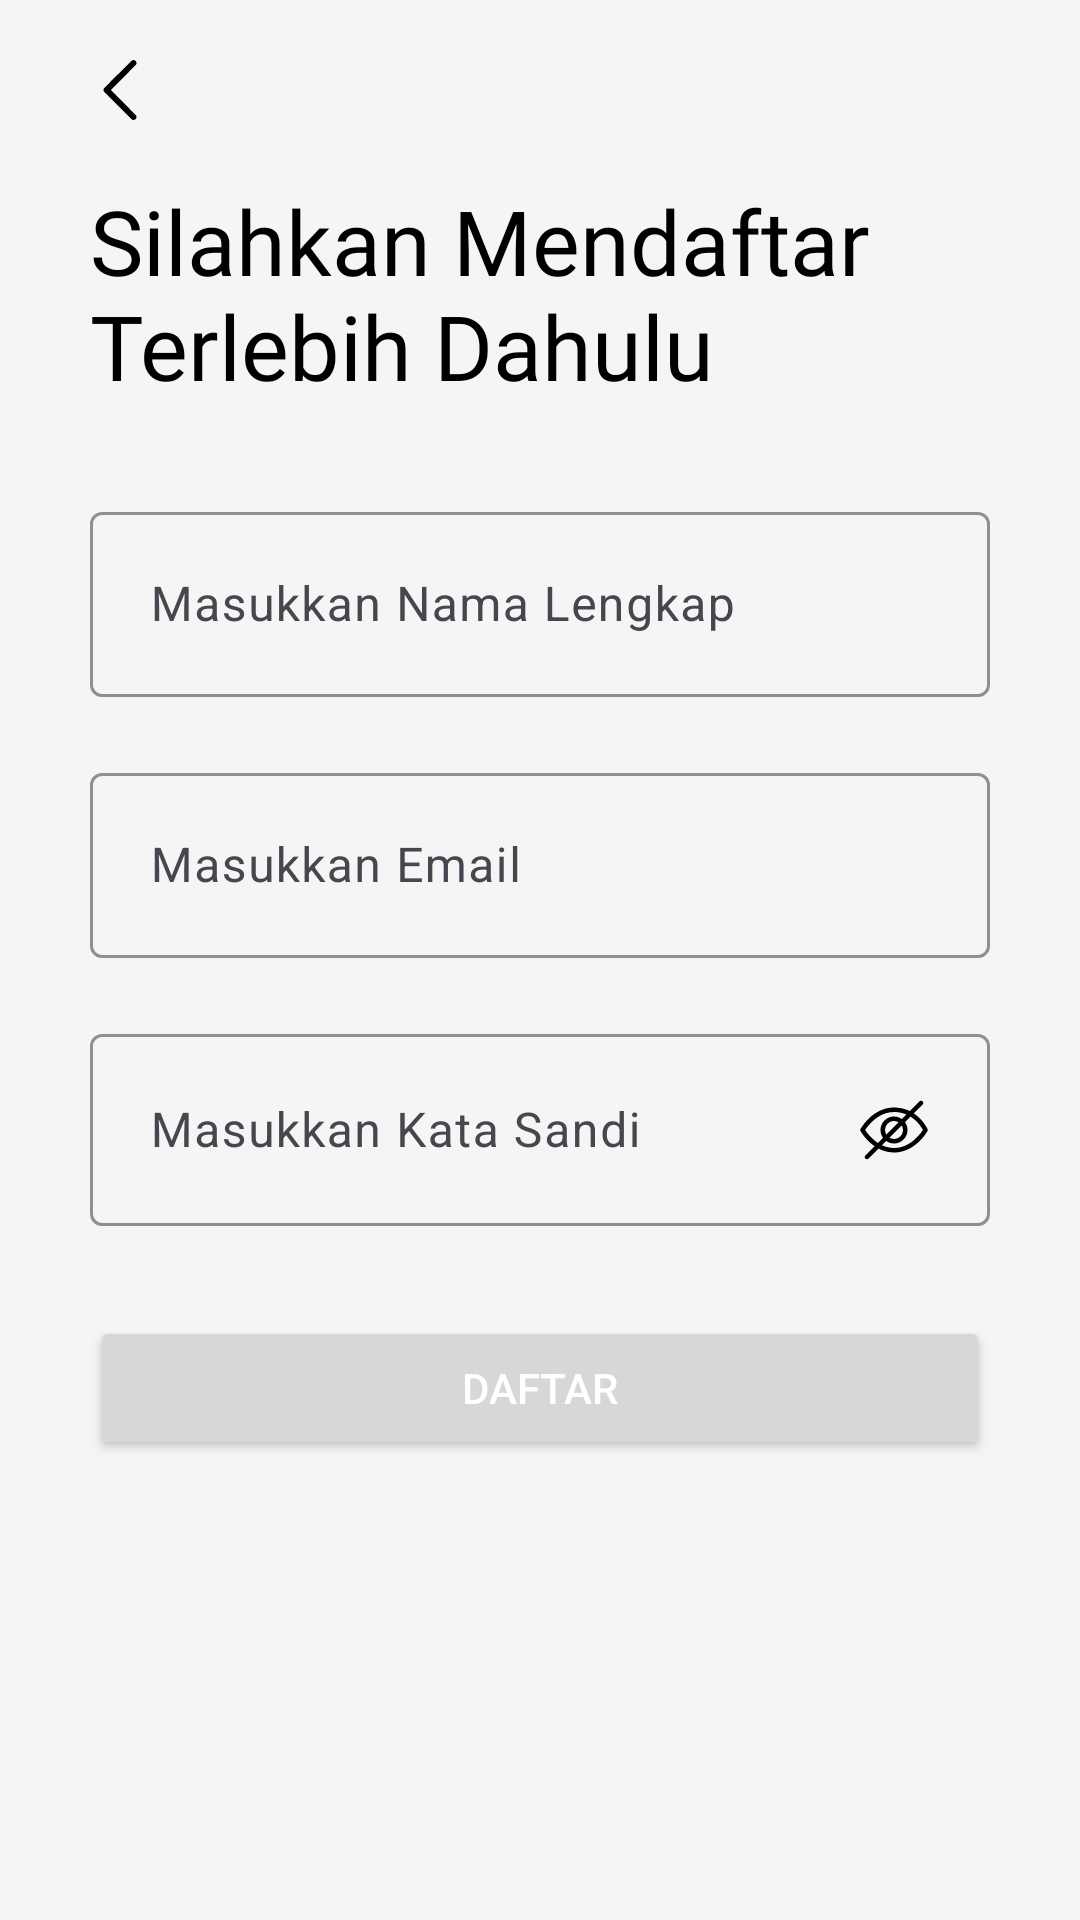

Named icons in this screenshot (1080×1920) and their bounding boxes, (x1, y1, x2, y2):
back: (103, 60, 137, 120)
